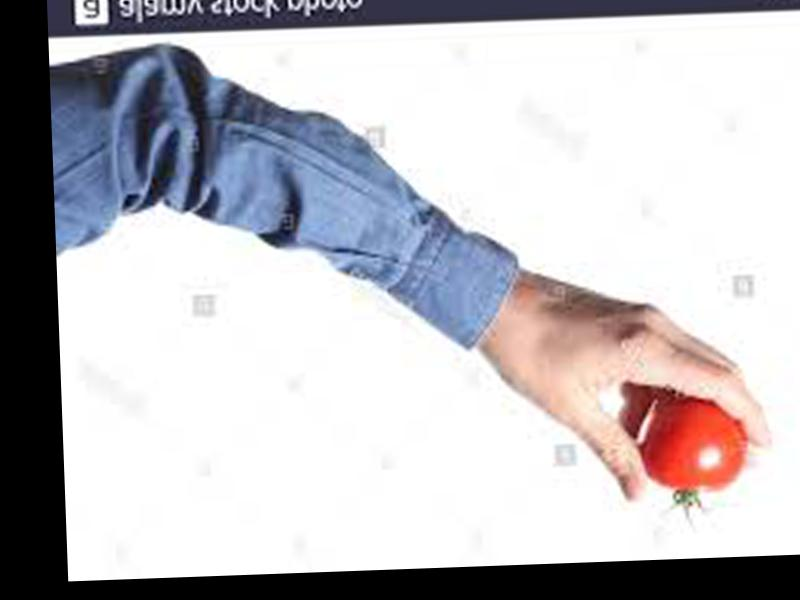Tomato: (642, 399, 749, 490)
